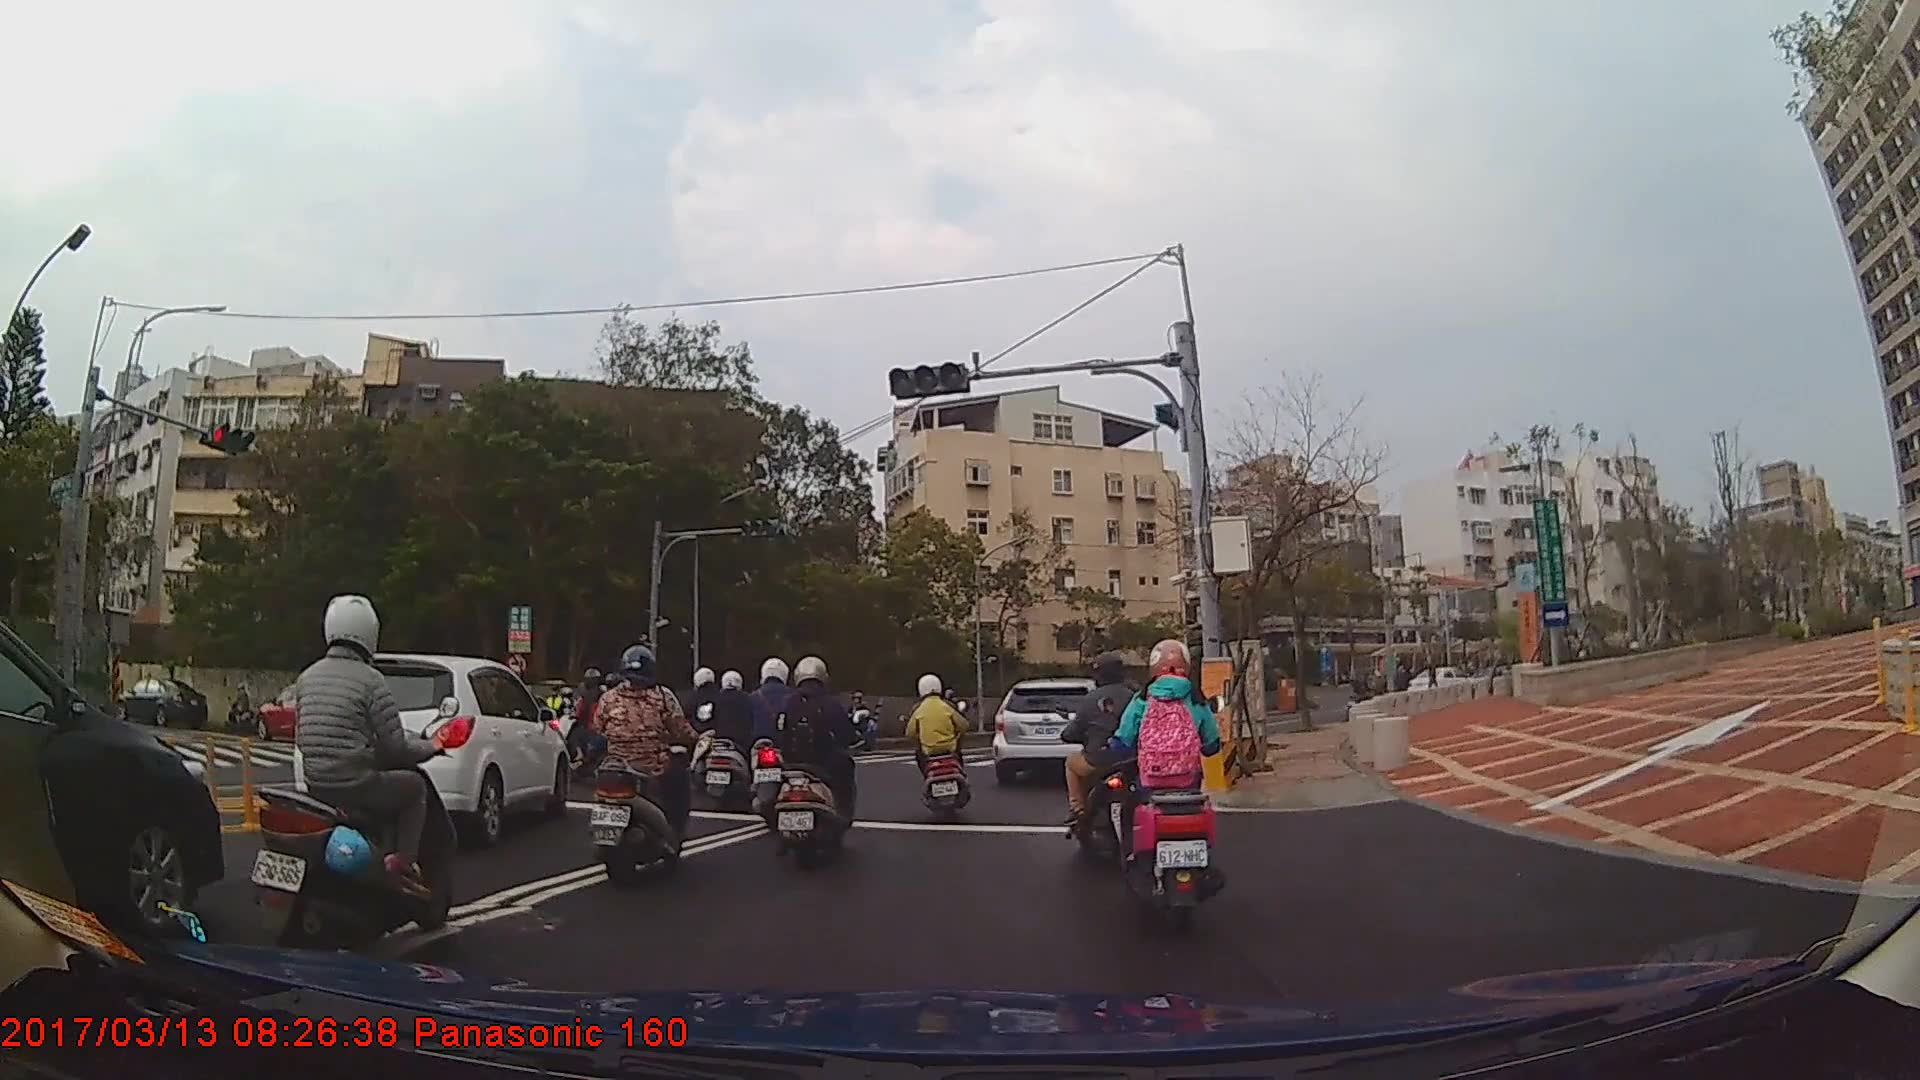rider: (248, 594, 459, 962), (1114, 638, 1227, 922), (584, 643, 701, 894), (1057, 649, 1158, 862), (771, 653, 864, 872), (739, 654, 809, 829), (903, 672, 980, 821), (704, 671, 768, 809), (554, 667, 624, 785), (668, 663, 731, 794), (843, 693, 878, 750)
vehicle: (0, 618, 223, 936), (285, 653, 566, 847), (992, 676, 1130, 783), (255, 677, 357, 739), (103, 674, 207, 727)
